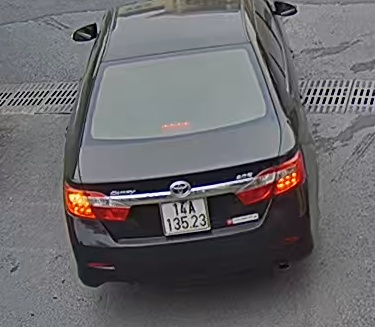vehicle plate: (155, 194, 210, 234)
